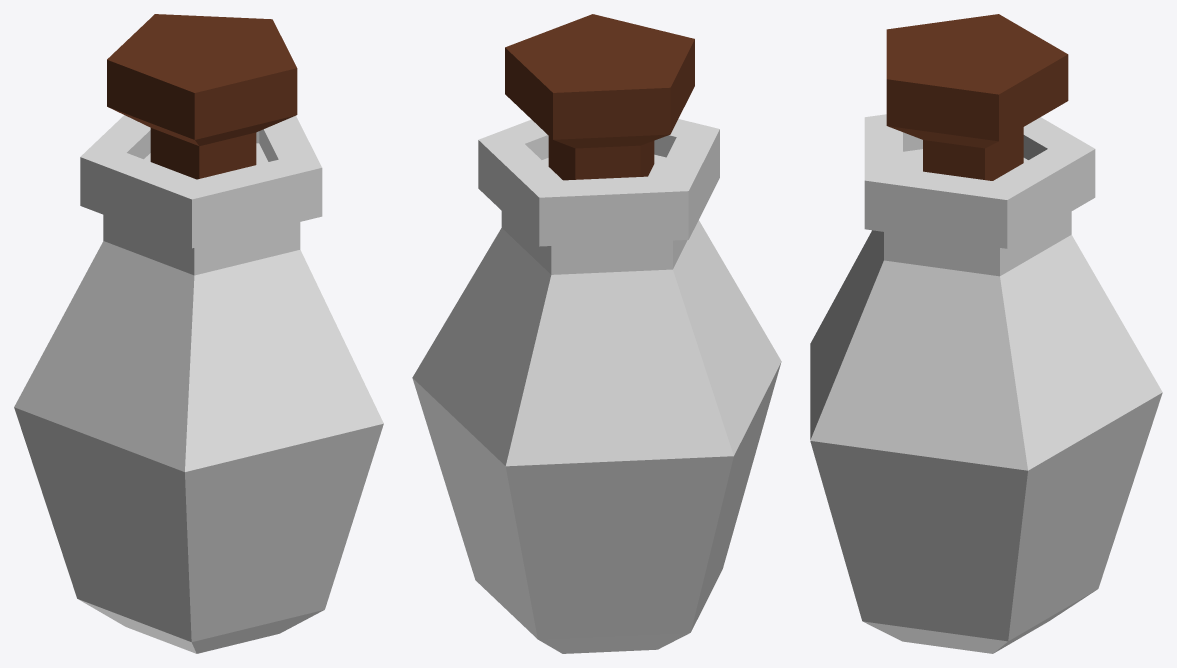
The model's file is Potion5.glb.
The picture shows the model from 3 angles, left to right: view 1: azimuth 30°, elevation 25°; view 2: azimuth 150°, elevation 25°; view 3: azimuth 270°, elevation 25°; orthographic projection.
Visible parts, largest first — view 1: Potion5; view 2: Potion5; view 3: Potion5.
Boxes of the visible parts, box(x1,y1,x2,y2) form: Potion5: box(14, 14, 383, 653); Potion5: box(412, 14, 781, 653); Potion5: box(810, 14, 1162, 653).
Bounding box in the file's own units: 0.4697 × 0.7927 × 0.4467.
